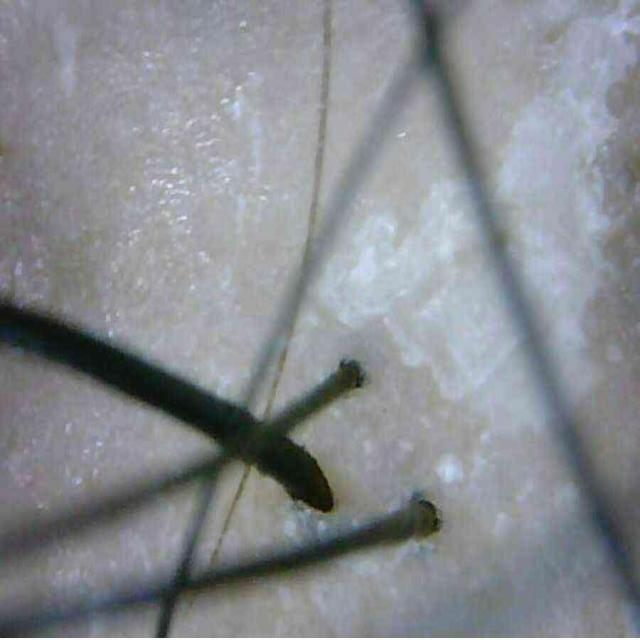ds: (449, 24, 640, 395), (312, 178, 546, 442)
